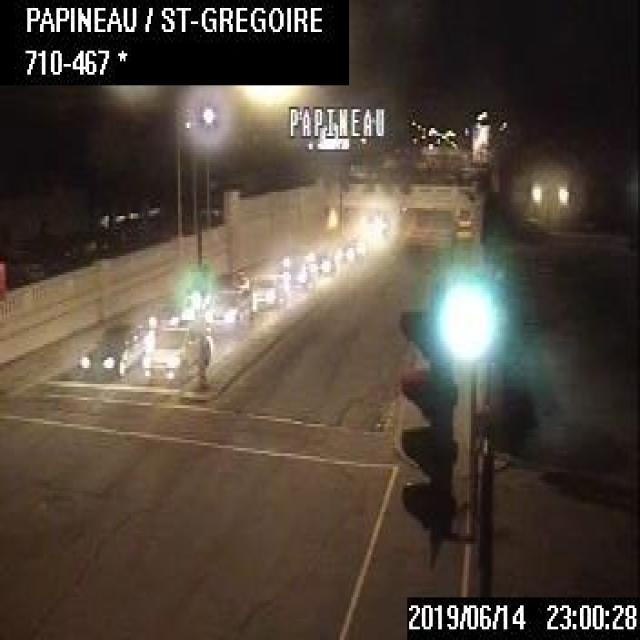vehicle: (138, 322, 214, 390), (76, 315, 142, 384), (202, 270, 248, 326), (250, 270, 280, 310), (279, 262, 313, 290), (331, 240, 359, 264), (308, 254, 334, 276)
